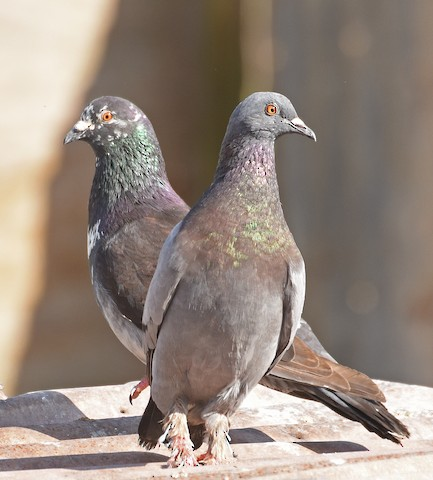pigeon: (58, 89, 420, 448), (117, 83, 343, 472)
